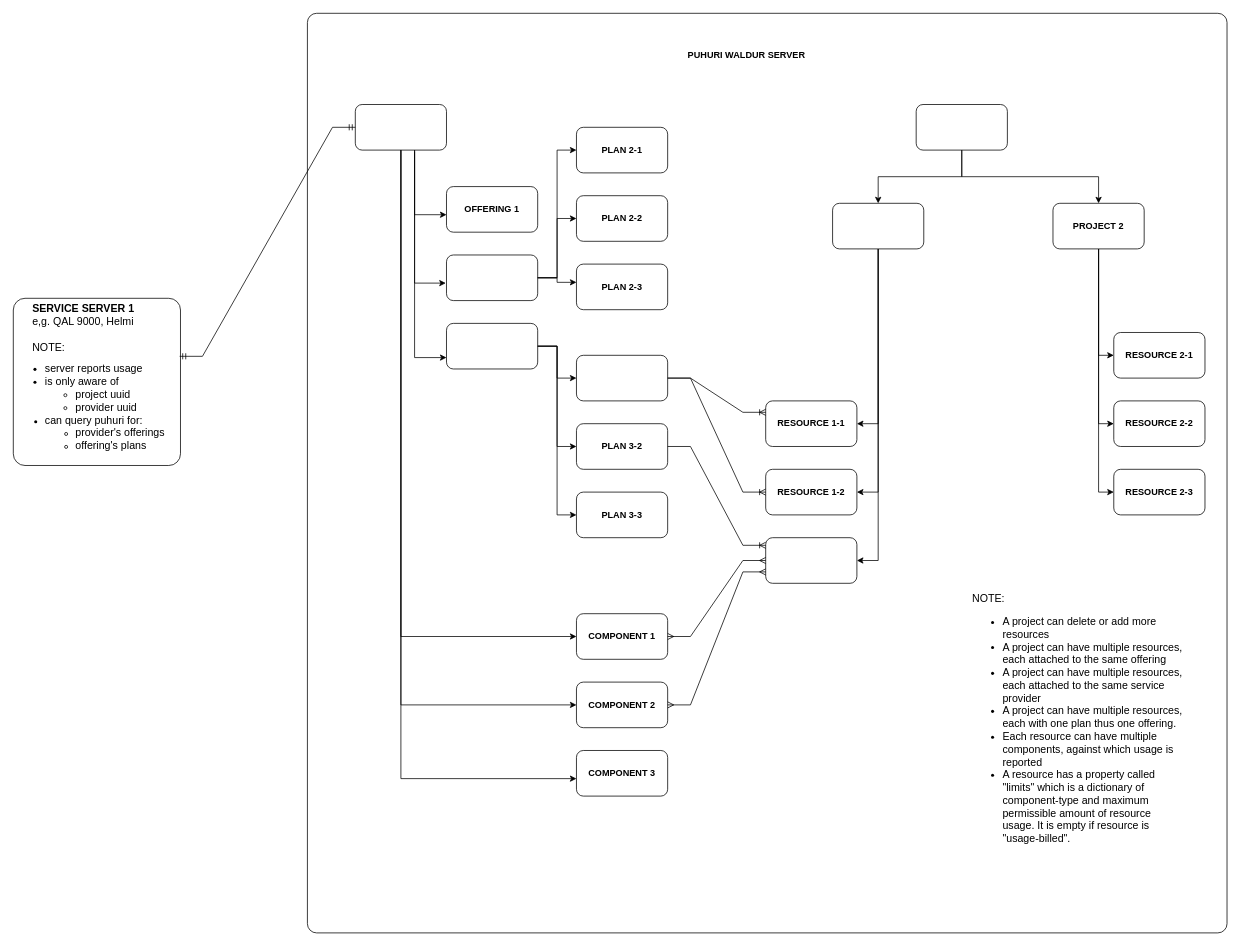
Some shapes in this 1240 by 946 pixel diagram are drawn without their labels. Here are the shapes that lost their labels. From the top down, the centre of each, then its label:
At point (400, 127): "SERVICE PROVIDER".
At point (961, 127): "CUSTOMER".
At point (878, 226): "PROJECT 1".
At point (492, 277): "OFFERING 2".
At point (492, 346): "OFFERING 3".
At point (622, 378): "PLAN 3-1".
At point (811, 560): "RESOURCE 1-3".
